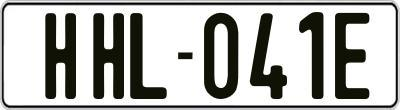0: (203, 13, 239, 103)
1: (298, 12, 326, 99)
4: (247, 12, 289, 101)
E: (334, 12, 373, 98)
H: (43, 10, 80, 100), (90, 12, 126, 99)
L: (129, 11, 167, 103)
